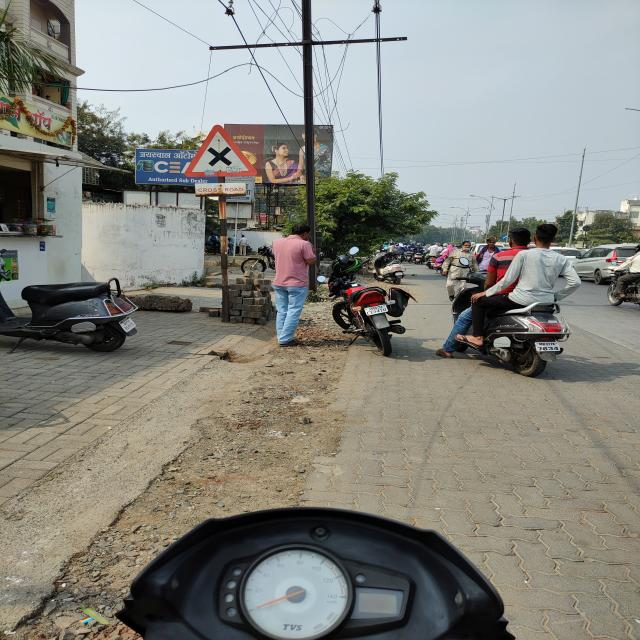cross_road: (181, 123, 258, 180)
